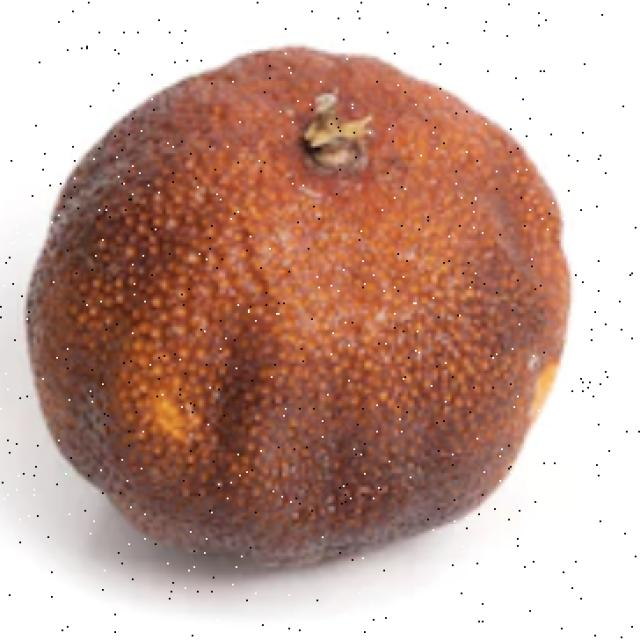Organik: (23, 25, 586, 595)
